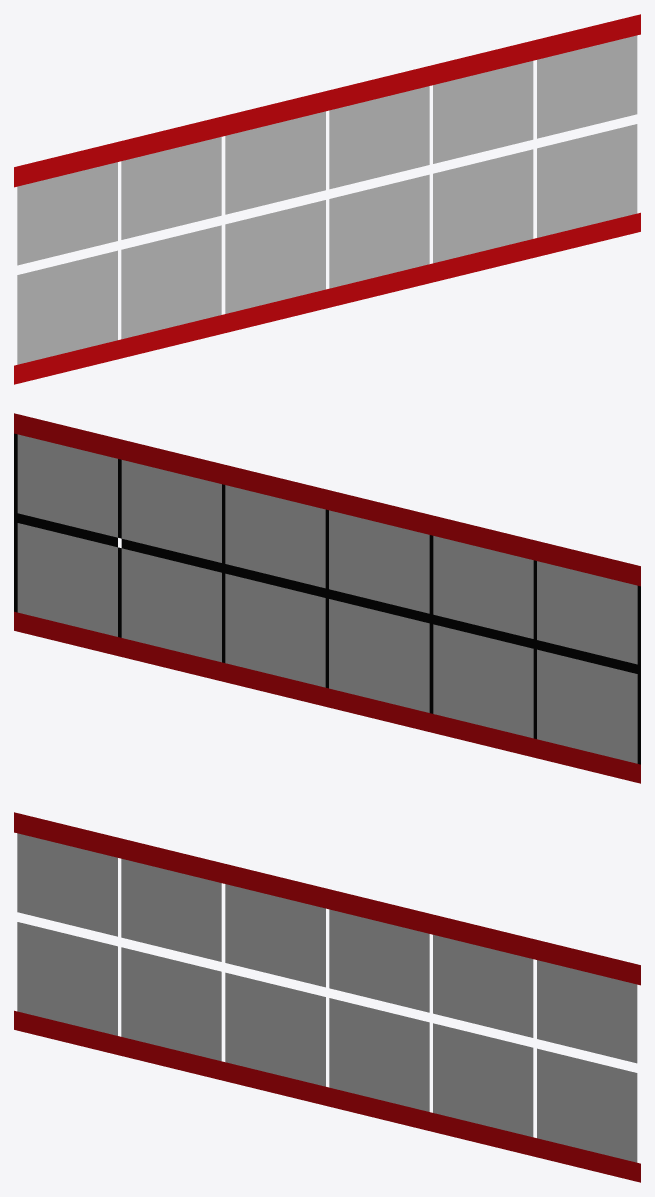
The model's file is ToyMouth.fbx.
3 renders of one model, top to bottom at view 1: azimuth 30°, elevation 25°; view 2: azimuth 150°, elevation 25°; view 3: azimuth 330°, elevation 25°, orthographic.
Visible parts, largest first — view 1: SOURIRE; view 2: SOURIRE; view 3: SOURIRE.
Part boxes in pixels (x1=…): SOURIRE: x1=14, y1=14, x2=640, y2=384; SOURIRE: x1=14, y1=413, x2=640, y2=783; SOURIRE: x1=14, y1=812, x2=640, y2=1182.
Size of the model in its own units: 75.41 by 25 by 4.07e-06.
